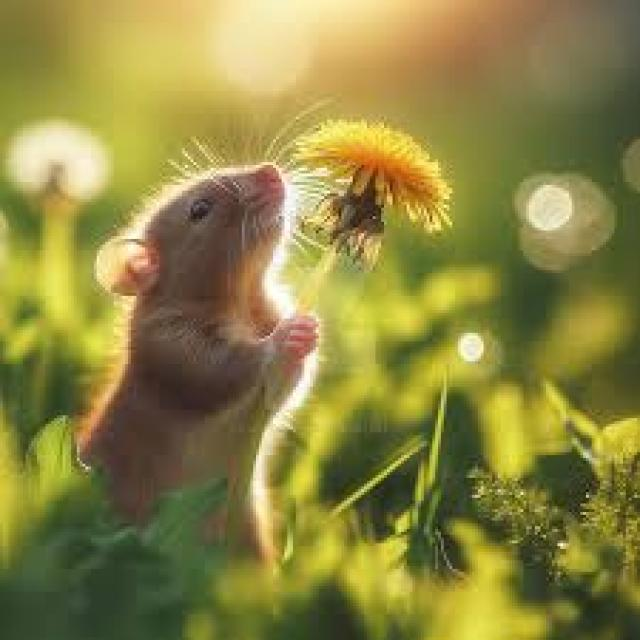rat: (71, 142, 324, 572)
